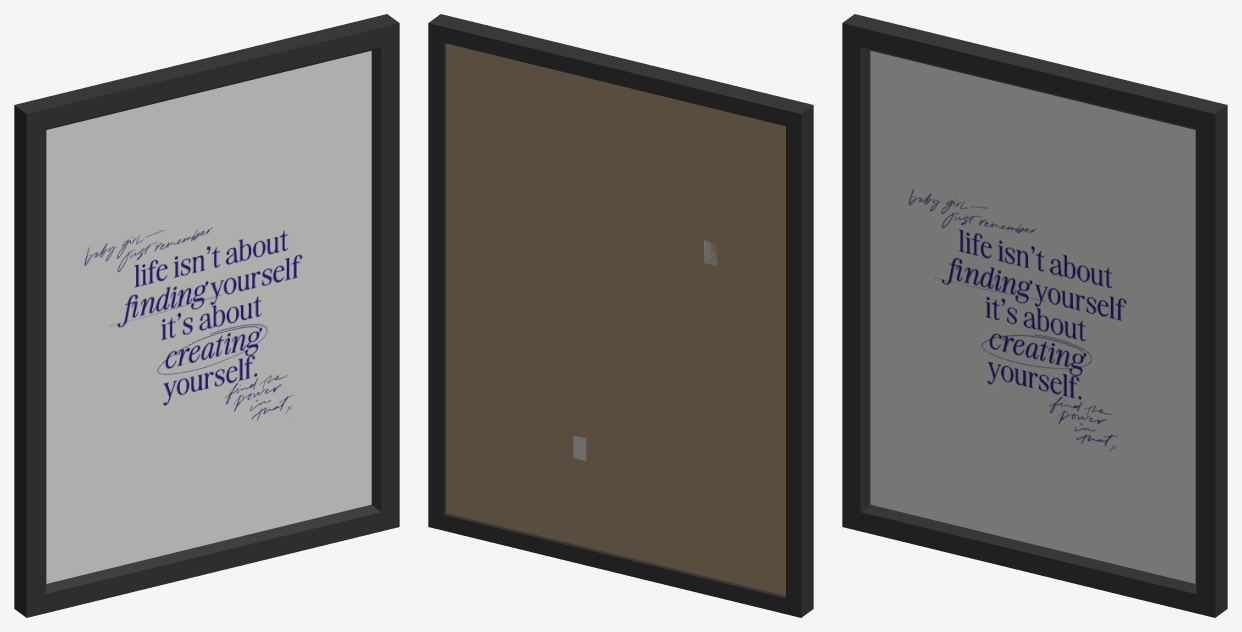
Rendered from creating-yourself-30x40.glb.
3 views of the same model, side by side, from view 1: azimuth 30°, elevation 25°; view 2: azimuth 150°, elevation 25°; view 3: azimuth 330°, elevation 25° (orthographic).
Parts seen in each view (by area): view 1: LAWHA 30x40; view 2: LAWHA 30x40; view 3: LAWHA 30x40.
Part boxes in pixels (x1,y1,x2,y2): LAWHA 30x40: (14,14,399,617); LAWHA 30x40: (428,14,813,617); LAWHA 30x40: (842,14,1227,617).
Size of the model in its own units: 0.344 by 0.444 by 0.02.
4 materials, 1 textured.
